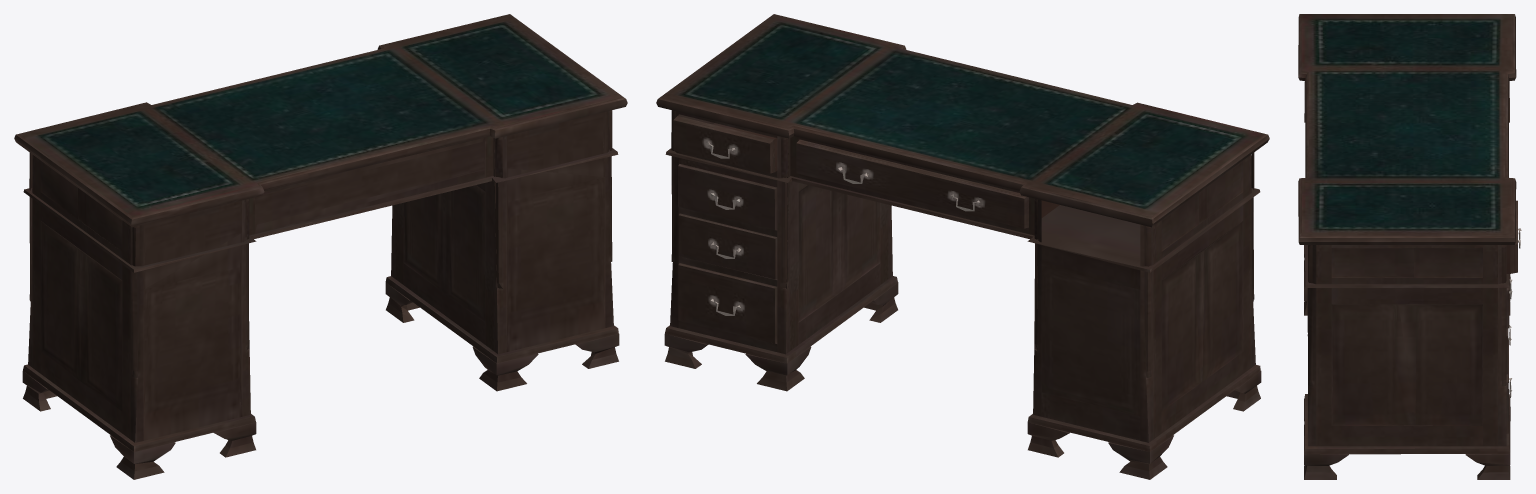
Rendered from desk-writing.lod1.glb.
3 views of the same model, side by side, from view 1: azimuth 30°, elevation 25°; view 2: azimuth 150°, elevation 25°; view 3: azimuth 270°, elevation 25° (orthographic). The views are drawn at different scales.
Parts seen in each view (by area): view 1: desk-writing; view 2: desk-writing; view 3: desk-writing.
Part boxes in pixels (left/top/right/bottom): desk-writing: left=14, top=14, right=627, bottom=479; desk-writing: left=656, top=14, right=1269, bottom=479; desk-writing: left=1298, top=14, right=1521, bottom=479.
Bounding box in the file's own units: 1.61 × 0.8186 × 0.6752.
1 material, 1 textured.
